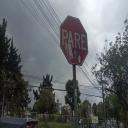Pare: (58, 14, 92, 70)
